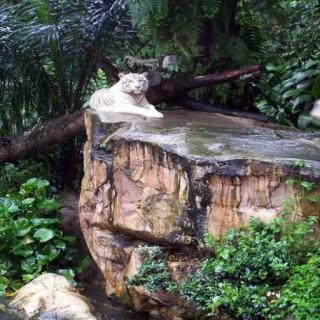Tiger: (86, 68, 166, 123)
